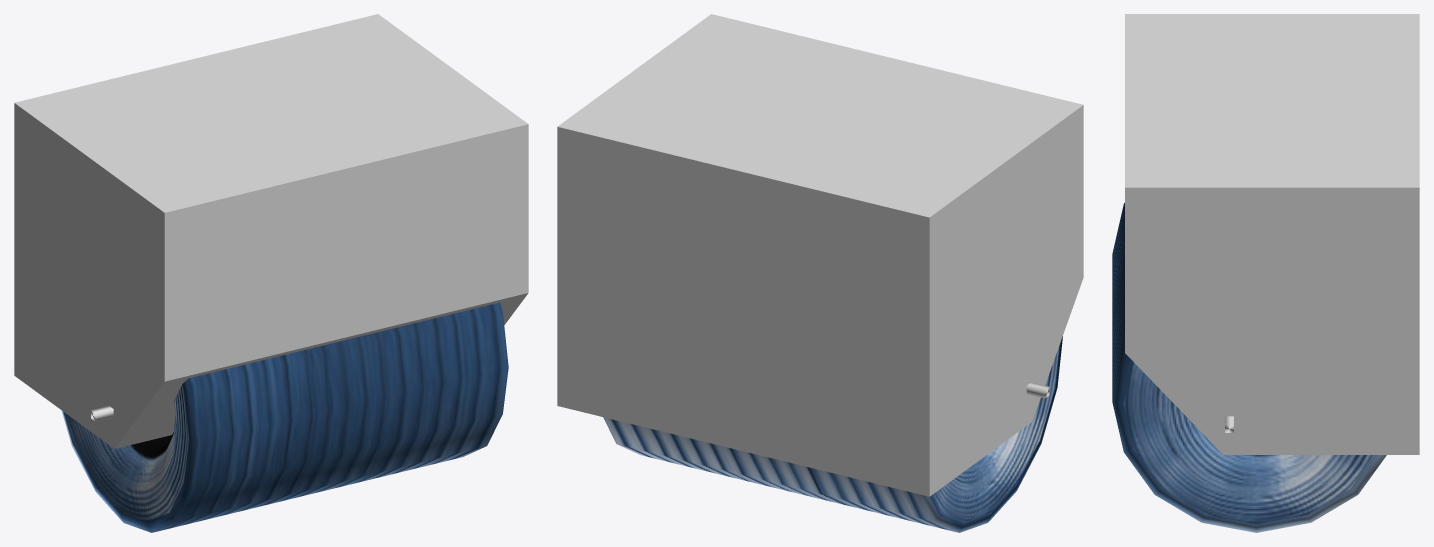
The model's file is hose_holder.fbx.
3 renders of one model, left to right at view 1: azimuth 30°, elevation 25°; view 2: azimuth 150°, elevation 25°; view 3: azimuth 270°, elevation 25°, orthographic. The views are drawn at different scales.
Parts seen in each view (by area): view 1: box, hose1; view 2: box, hose1; view 3: box, hose1.
Part boxes in pixels (x1,y1,x2,y2): box: [14, 14, 528, 448]; hose1: [61, 302, 508, 532]; box: [557, 14, 1083, 496]; hose1: [603, 336, 1062, 532]; box: [1125, 14, 1419, 454]; hose1: [1112, 203, 1386, 532].
Size of the model in its own units: 1.53 by 1.34 by 1.04.
Materials: 2 (1 with a texture image).
